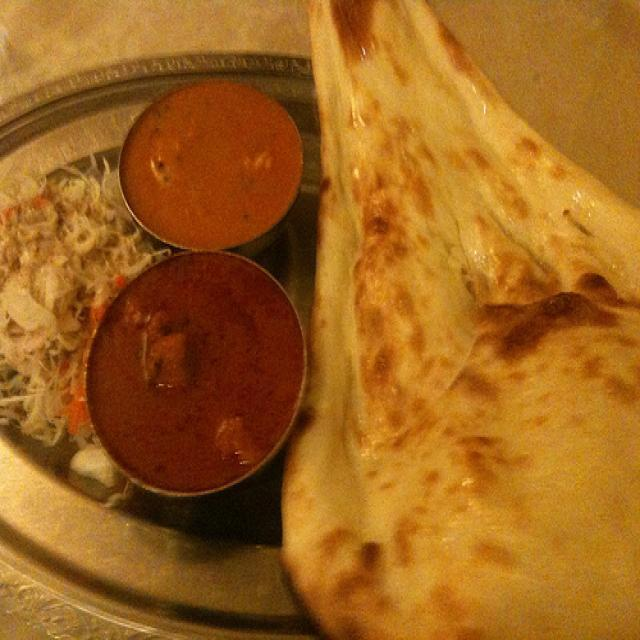Beef Curry: (120, 289, 264, 446)
